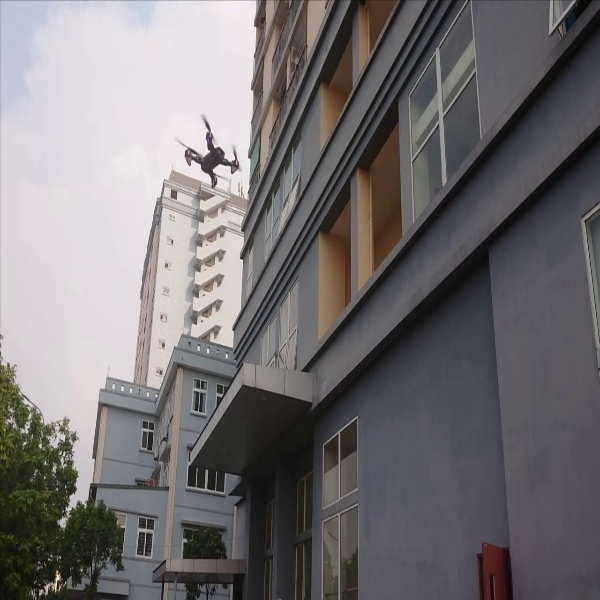drone: (174, 107, 244, 187)
